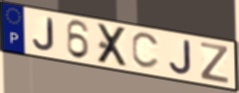6: (65, 19, 91, 61)
C: (130, 32, 162, 72)
J: (168, 39, 194, 76), (31, 16, 56, 52)
X: (96, 22, 130, 68)
Z: (199, 40, 230, 85)
